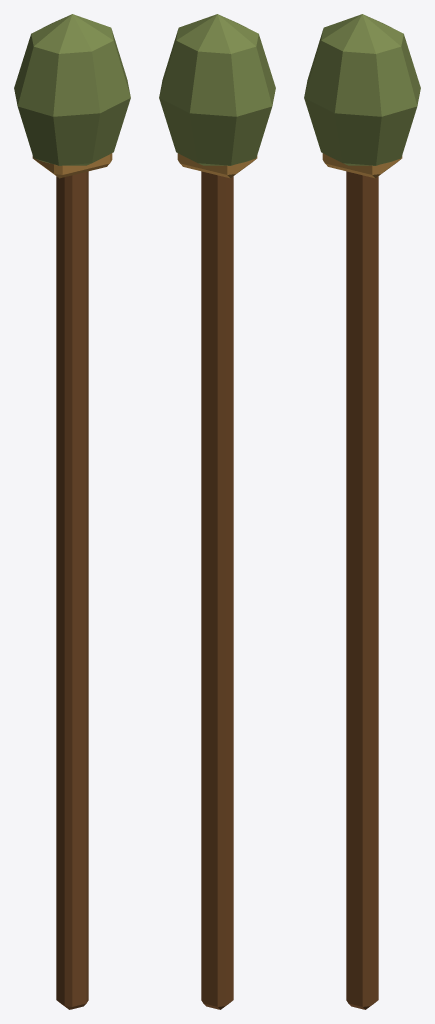
Rendered from SM_NPC_Mainhand_03_Staff.glb.
3 views of the same model, side by side, from view 1: azimuth 30°, elevation 25°; view 2: azimuth 150°, elevation 25°; view 3: azimuth 330°, elevation 25° (orthographic).
Parts seen in each view (by area): view 1: SM_NPC_Mainhand_03_Staff; view 2: SM_NPC_Mainhand_03_Staff; view 3: SM_NPC_Mainhand_03_Staff.
Boxes of the visible parts, x1,y1,x2,y2 form: SM_NPC_Mainhand_03_Staff: (14,14,130,1009); SM_NPC_Mainhand_03_Staff: (159,14,275,1009); SM_NPC_Mainhand_03_Staff: (304,14,420,1009).
Size of the model in its own units: 0.16 by 1.38 by 0.14.
